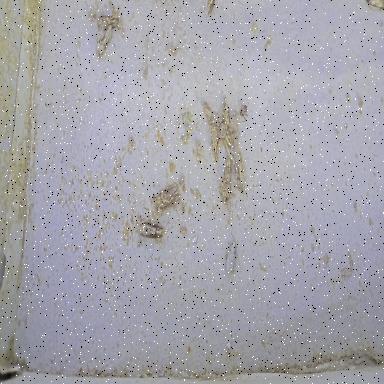pbw: (154, 184, 182, 216), (220, 157, 232, 207), (138, 220, 164, 240), (96, 30, 112, 61), (209, 122, 219, 164), (96, 15, 120, 32), (223, 104, 231, 134), (367, 1, 384, 12), (207, 0, 214, 16)
